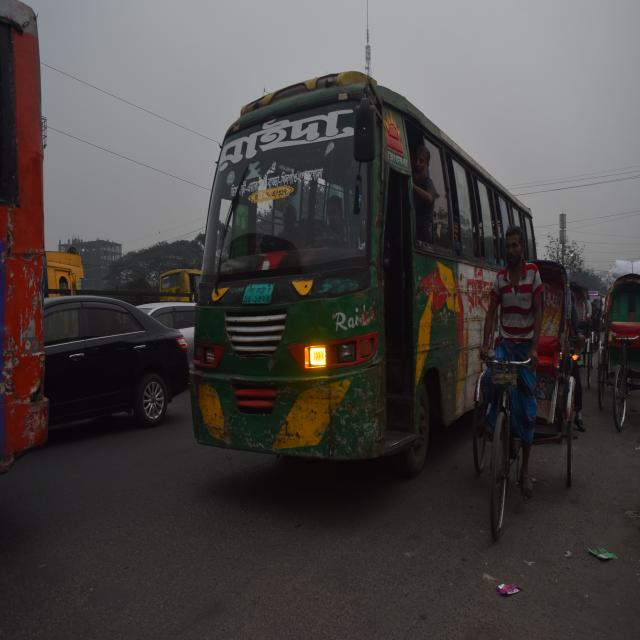bus: (192, 86, 536, 514), (0, 0, 56, 511)
car: (43, 279, 195, 471)
